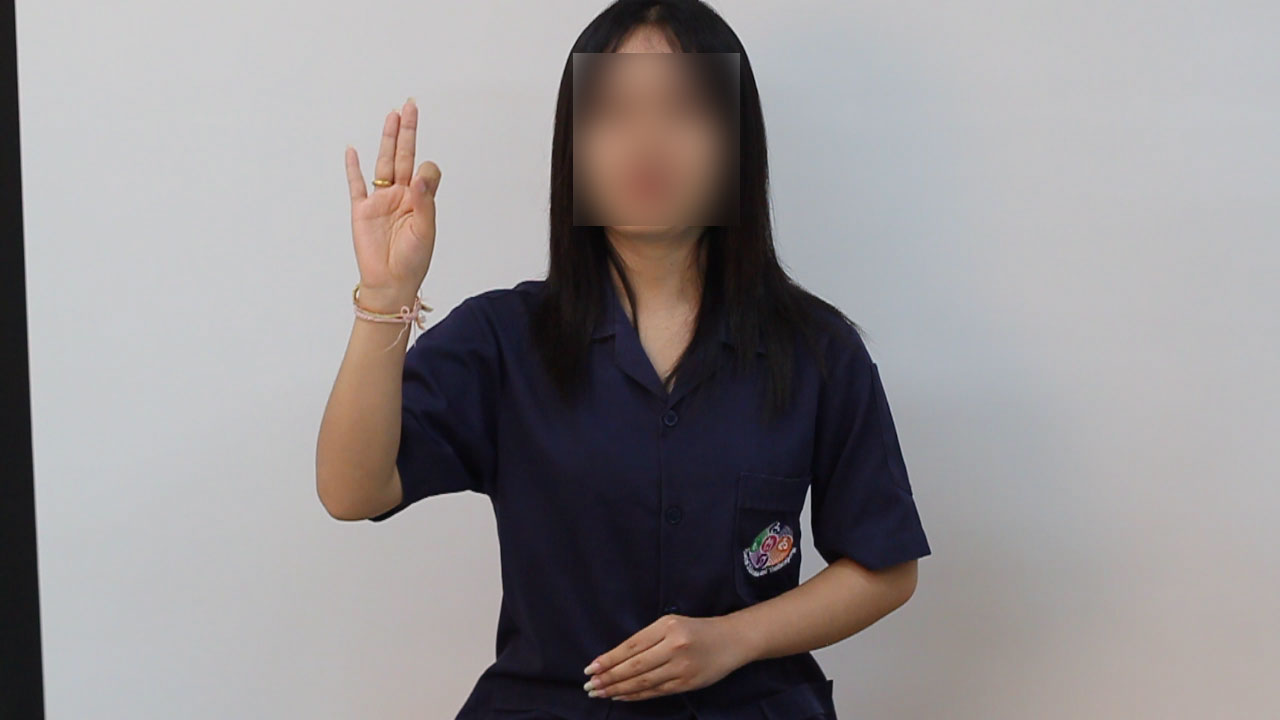for: (326, 86, 451, 317)
